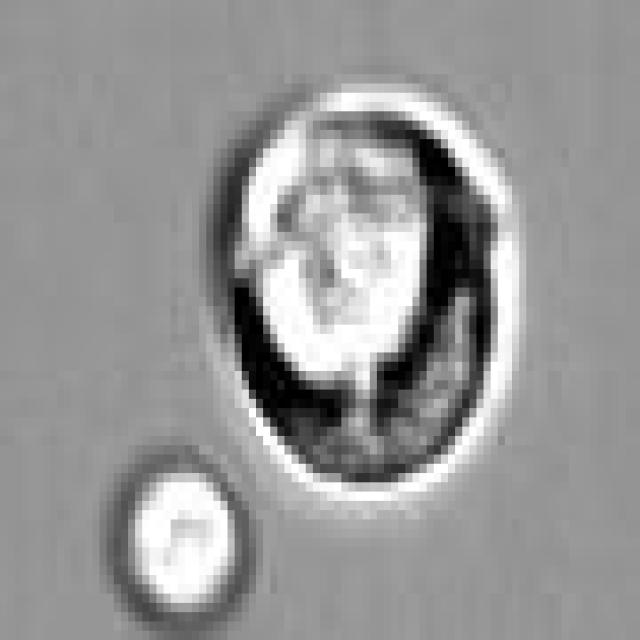Cancer Cell: (227, 102, 505, 482)
WBC: (121, 454, 242, 603)
